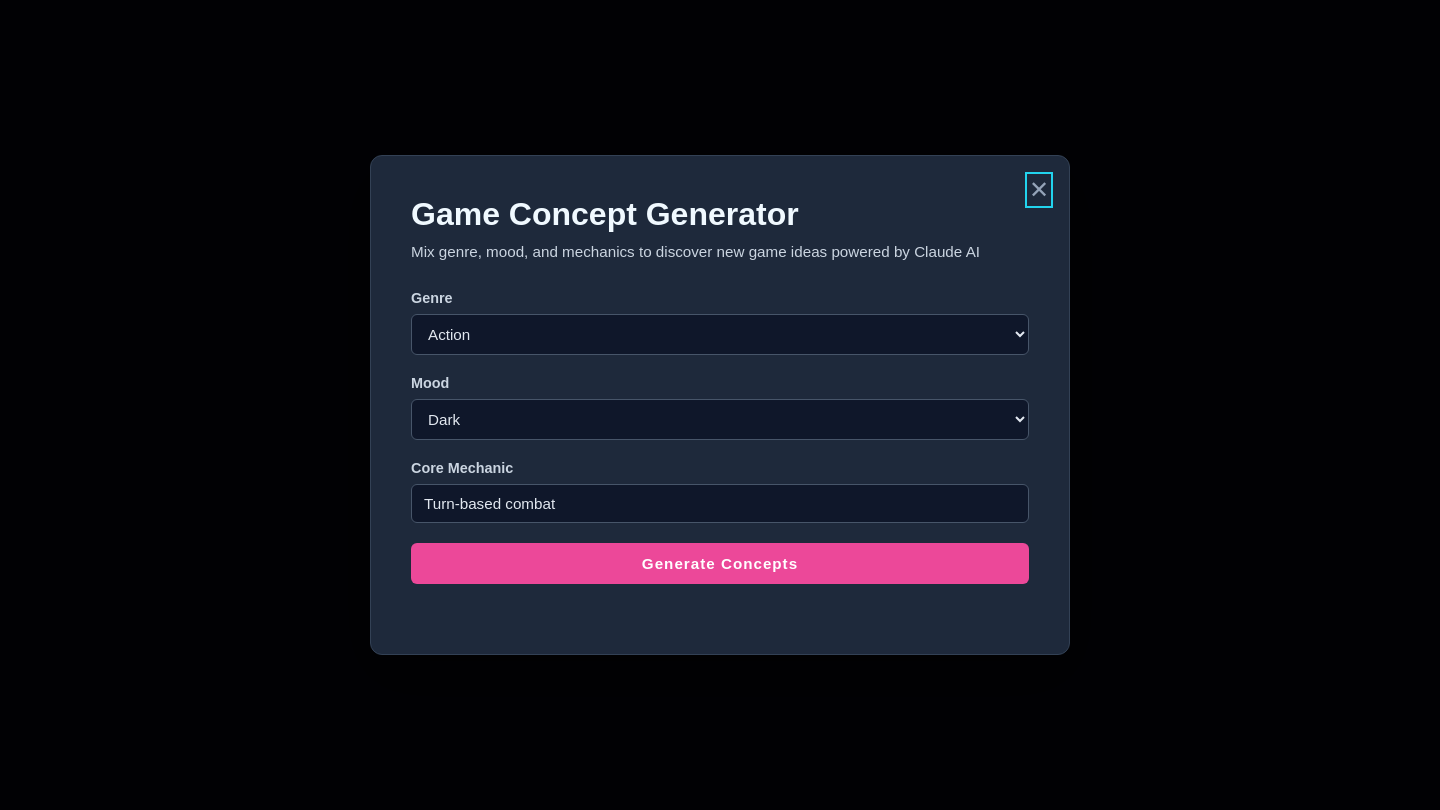
Scenario: GameConceptModal › shows an error message when generation fails
This screenshot has width=1440, height=810.
Click the button "Generate Concepts": (720, 564) [411, 543, 1029, 584]
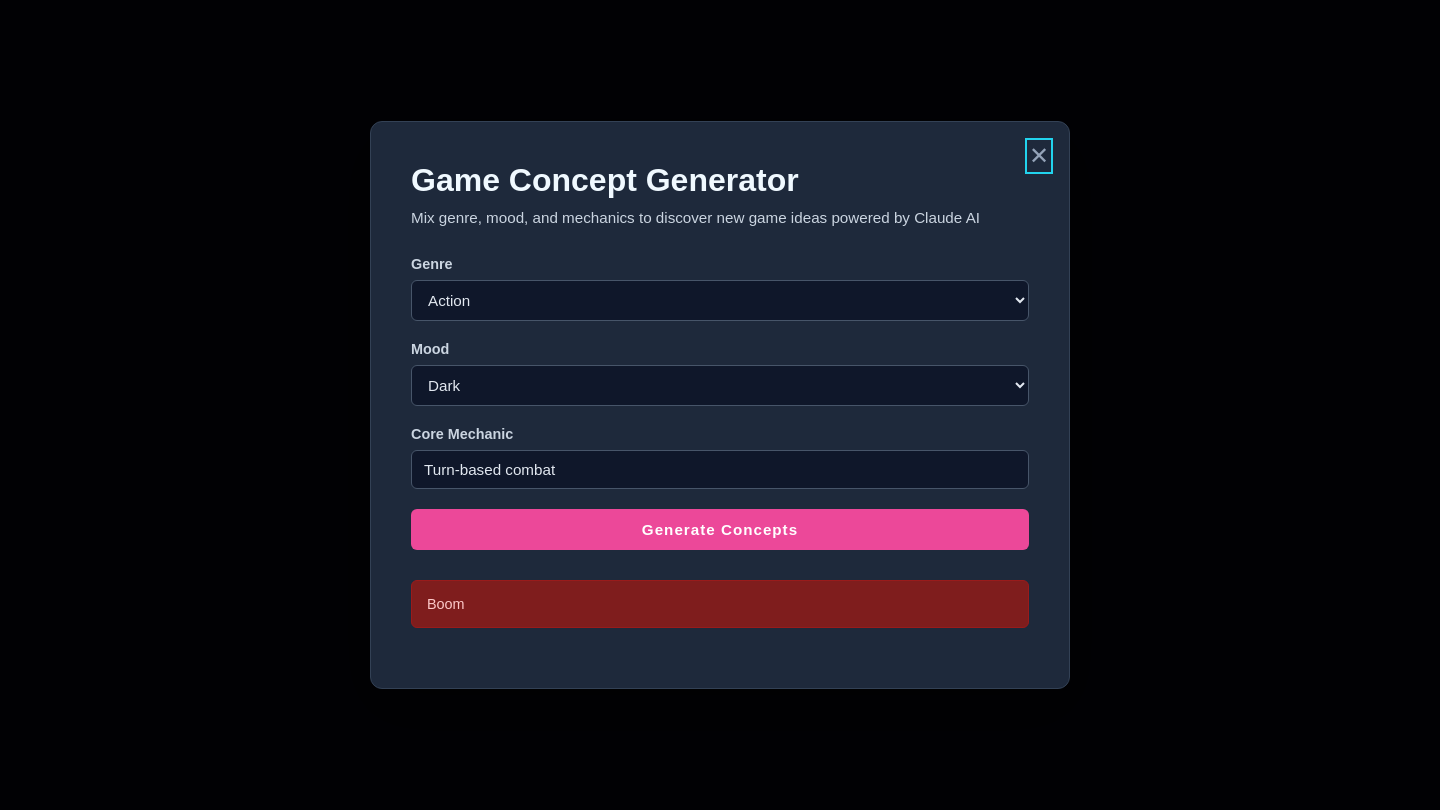
Expected: the message reads "Boom", [427, 596, 465, 612]
